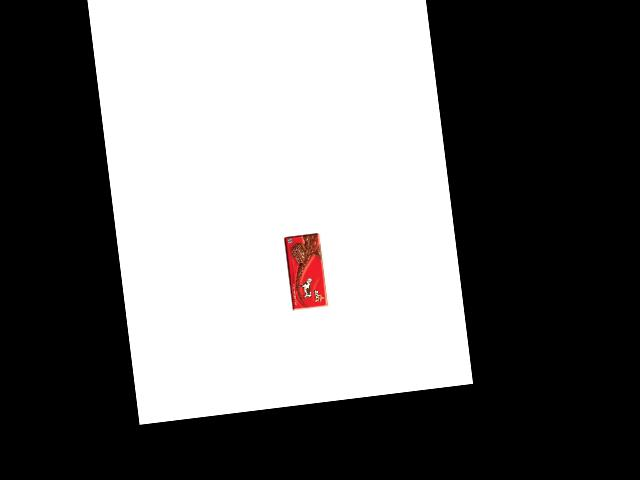chocolate: (279, 230, 329, 313)
